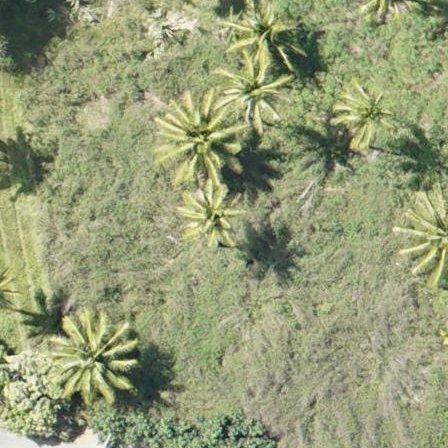palm_tree: (47, 306, 139, 405), (153, 93, 241, 183), (213, 56, 295, 129), (175, 180, 246, 249), (225, 6, 293, 65), (332, 81, 395, 143)
